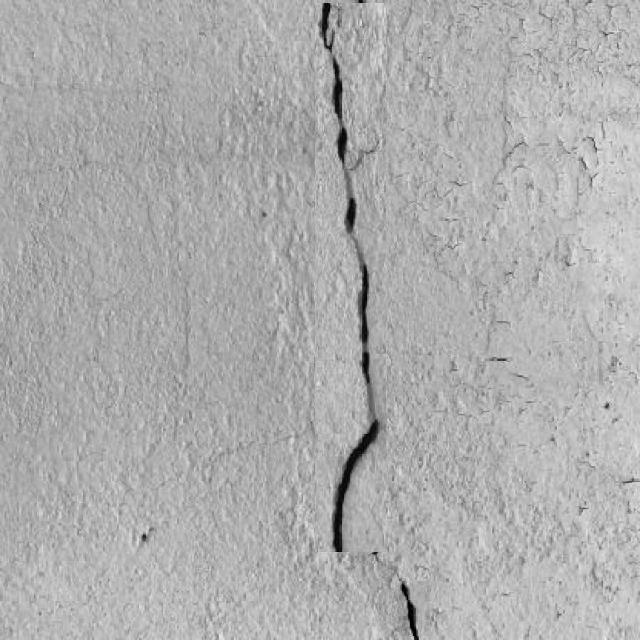vertical crack: (316, 3, 386, 550), (400, 581, 428, 636)
